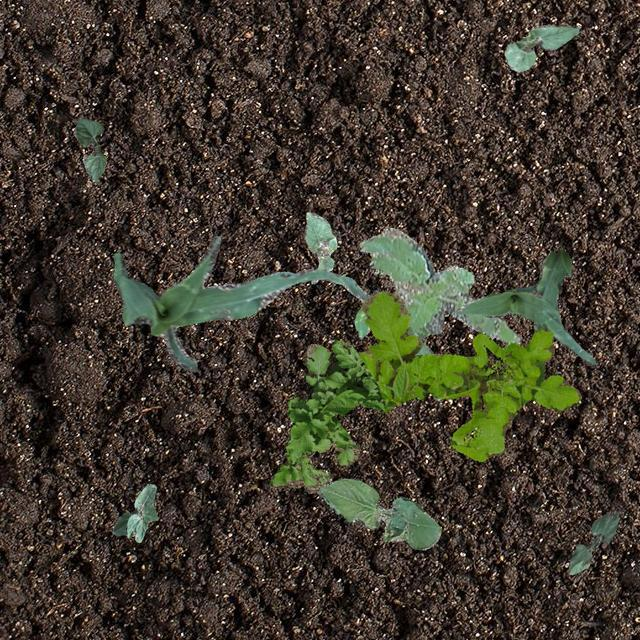crop: (112, 234, 346, 370), (456, 248, 594, 366), (314, 478, 440, 548), (342, 276, 426, 354), (503, 24, 578, 70), (566, 508, 618, 574), (110, 482, 156, 542), (304, 210, 336, 282), (72, 116, 106, 182)
weed: (356, 290, 580, 460), (358, 228, 518, 354), (268, 338, 384, 492)
